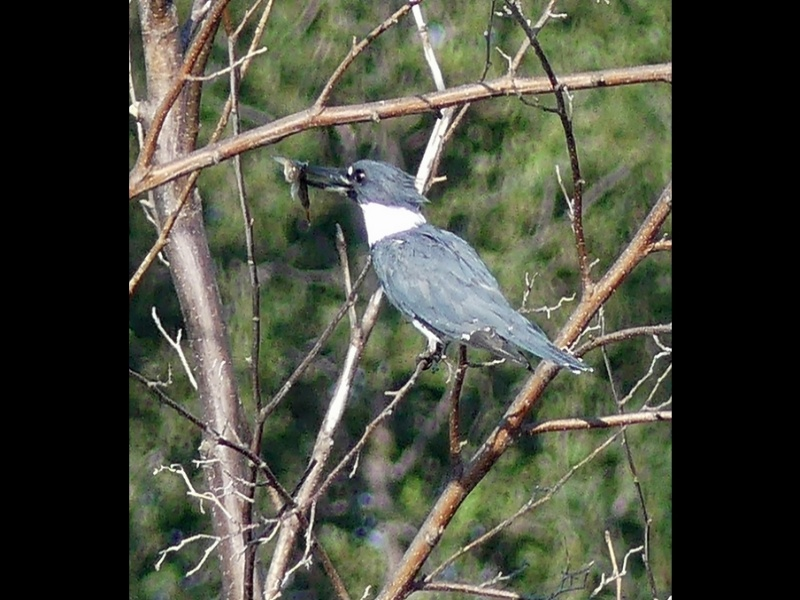kingfisher: (271, 149, 599, 380)
